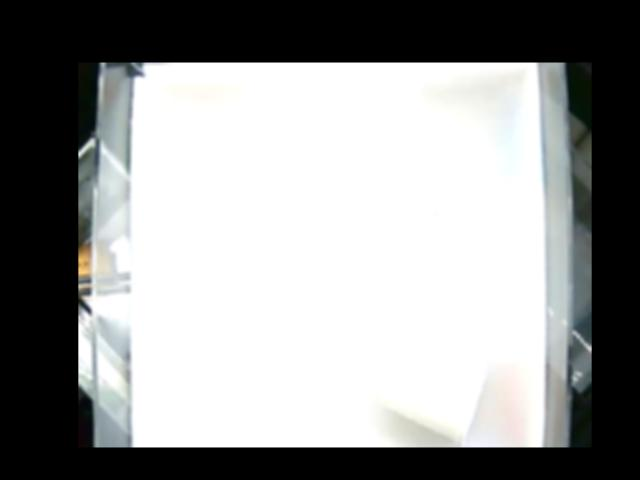Cup: (381, 338, 490, 447)
